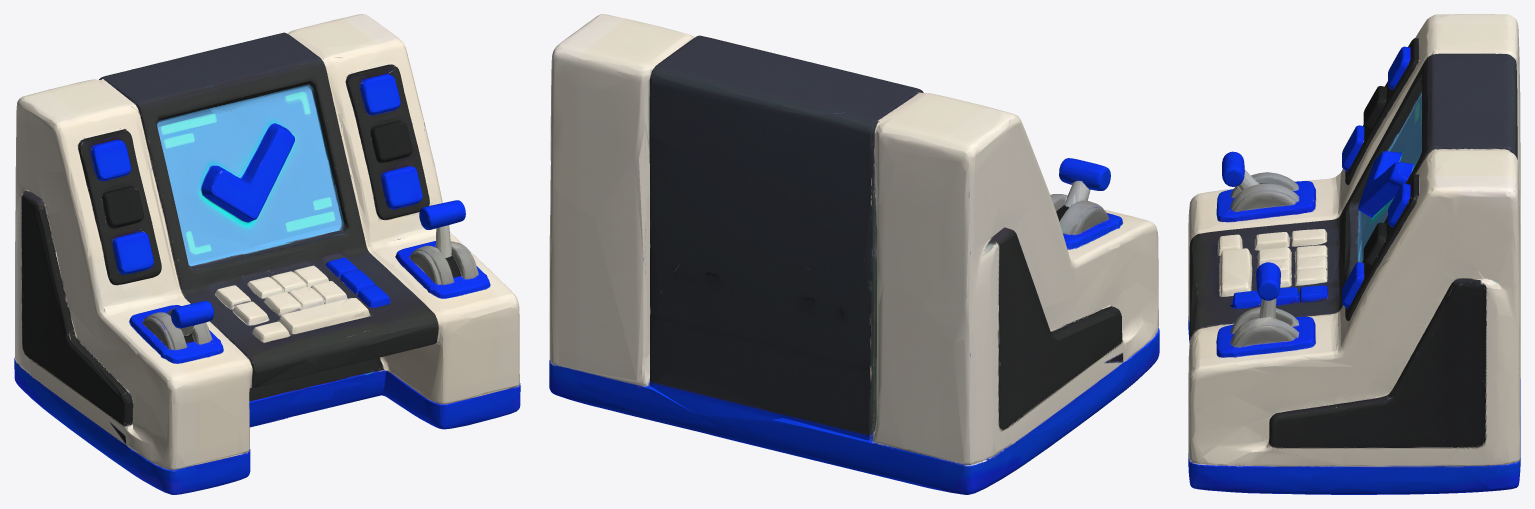
The model's file is tasks.glb.
3 renders of one model, left to right at view 1: azimuth 30°, elevation 25°; view 2: azimuth 150°, elevation 25°; view 3: azimuth 270°, elevation 25°, orthographic. The views are drawn at different scales.
Size of the model in its own units: 1.9 by 1.47 by 1.43.
1 material, 1 textured.
